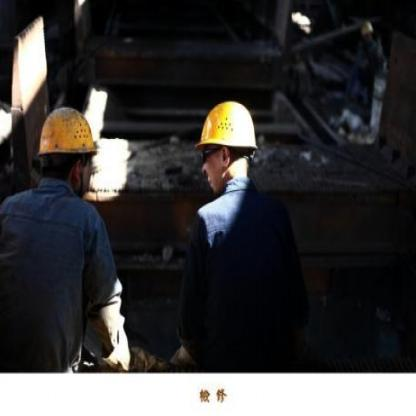helmet: (193, 90, 261, 200), (34, 99, 102, 197)
